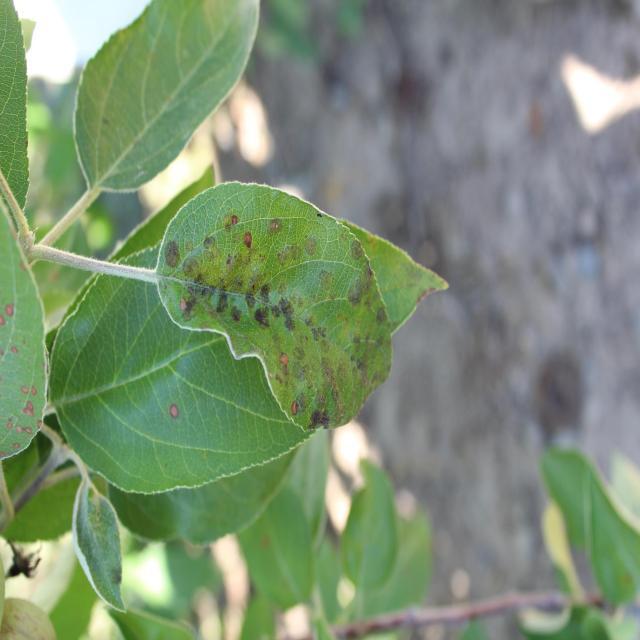Black Rot: (0, 269, 49, 465), (155, 399, 190, 430), (280, 390, 302, 427), (173, 285, 191, 326), (274, 341, 292, 378), (244, 222, 255, 260), (230, 202, 242, 235)
scab: (152, 164, 393, 425), (72, 476, 139, 611)
